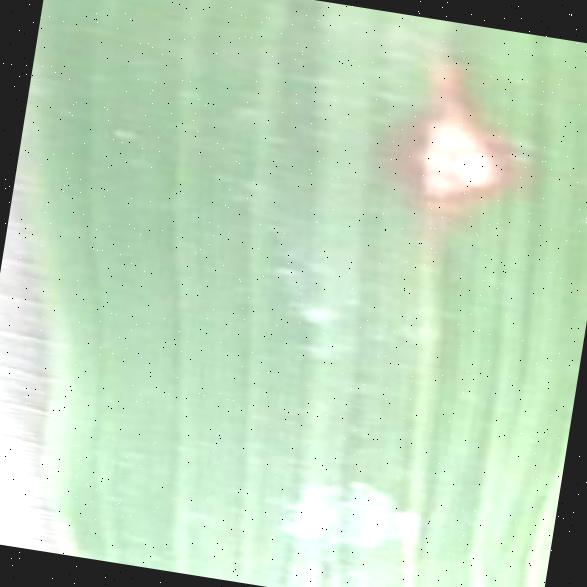Leaf_smut: (372, 37, 546, 250)
